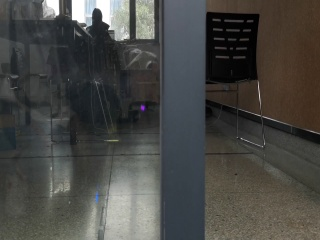room: (8, 4, 317, 240)
